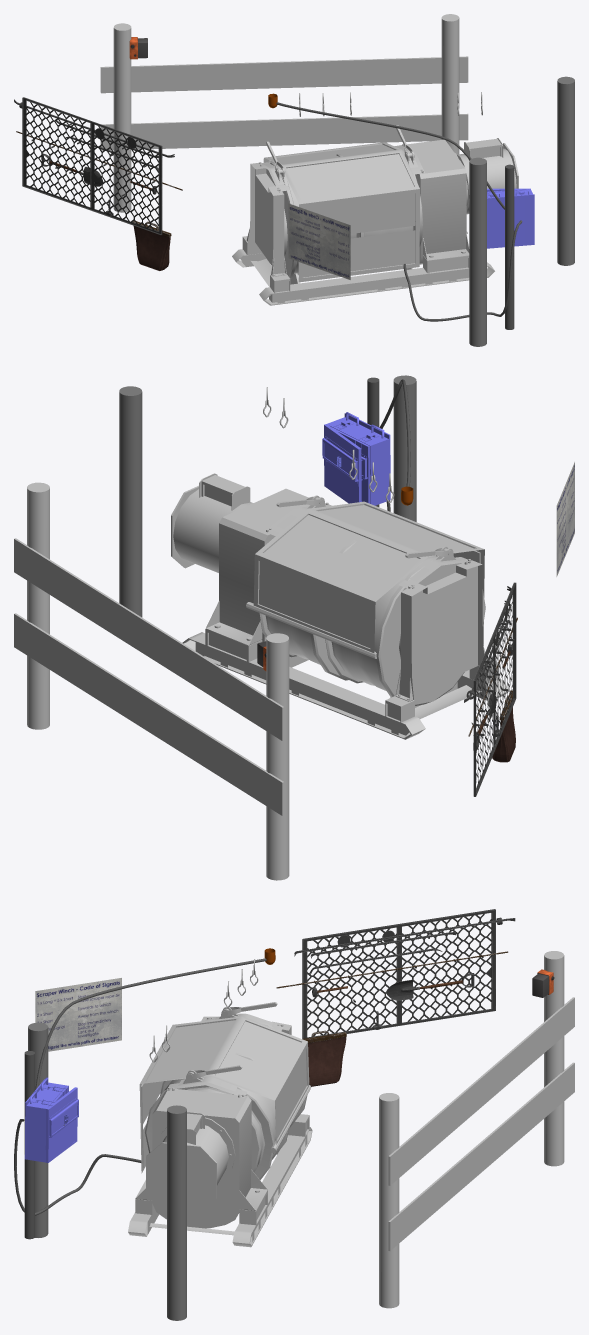
File: Face Winch.fbx
3 views of the same model, one above another, from view 1: azimuth 30°, elevation 25°; view 2: azimuth 150°, elevation 25°; view 3: azimuth 270°, elevation 25° (orthographic). The views are drawn at different scales.
Visible parts, largest first — view 1: Winch__1_, Winch_005__1_, Tool_rack_001, Cube_001, Cube_002, Code_of_signals, Cylinder_003, Cylinder_003__1_, Cylinder_001, Cylinder_002, Power_box_not_locked__Hazard_, Cylinder_013 (+3 smaller); view 2: Winch__1_, Winch_005__1_, Cube_001, Cube_002, Tool_rack_001, Cylinder_003__1_, Cylinder_001, Cylinder_002, Cylinder_003, Power_Box, Power_box_not_locked__Hazard_, Code_of_signals (+1 smaller); view 3: Winch__1_, Tool_rack_001, Winch_005__1_, Cube_001, Cube_002, Code_of_signals, Cylinder_003__1_, Cylinder_002, Power_box_not_locked__Hazard_, Cylinder_001, Cylinder_003, Cylinder_013 (+4 smaller).
Part boxes in pixels (box(x1,y1,x2,y2)): Winch__1_: box(232, 125, 518, 305); Winch_005__1_: box(263, 142, 419, 282); Tool_rack_001: box(14, 97, 182, 270); Cube_001: box(100, 56, 468, 93); Cube_002: box(100, 113, 468, 150); Code_of_signals: box(288, 203, 350, 279); Cylinder_003: box(469, 157, 486, 346); Cylinder_003__1_: box(557, 76, 574, 265); Cylinder_001: box(113, 23, 131, 212); Cylinder_002: box(441, 14, 459, 154); Power_box_not_locked__Hazard_: box(487, 188, 532, 248); Cylinder_013: box(505, 164, 514, 329); Winch__1_: box(171, 473, 509, 739); Winch_005__1_: box(253, 501, 484, 652); Cube_001: box(14, 538, 284, 740); Cube_002: box(14, 613, 284, 815); Tool_rack_001: box(464, 582, 517, 796); Cylinder_003__1_: box(119, 386, 142, 617); Cylinder_001: box(266, 633, 289, 880); Cylinder_002: box(27, 482, 49, 729); Cylinder_003: box(393, 375, 416, 521); Power_Box: box(323, 412, 390, 505); Power_box_not_locked__Hazard_: box(322, 412, 390, 503); Code_of_signals: box(556, 462, 574, 576); Winch__1_: box(128, 1002, 312, 1247); Tool_rack_001: box(276, 909, 515, 1086); Winch_005__1_: box(139, 1016, 309, 1173); Cube_001: box(388, 997, 574, 1185); Cube_002: box(388, 1062, 574, 1250); Code_of_signals: box(35, 978, 121, 1051); Cylinder_003__1_: box(167, 1105, 186, 1320); Cylinder_002: box(379, 1093, 399, 1308); Power_box_not_locked__Hazard_: box(24, 1078, 78, 1162); Cylinder_001: box(544, 951, 564, 1166); Cylinder_003: box(28, 1022, 48, 1237); Cylinder_013: box(24, 1051, 34, 1239).
Bounding box in the file's own units: 419 × 195 × 433.
